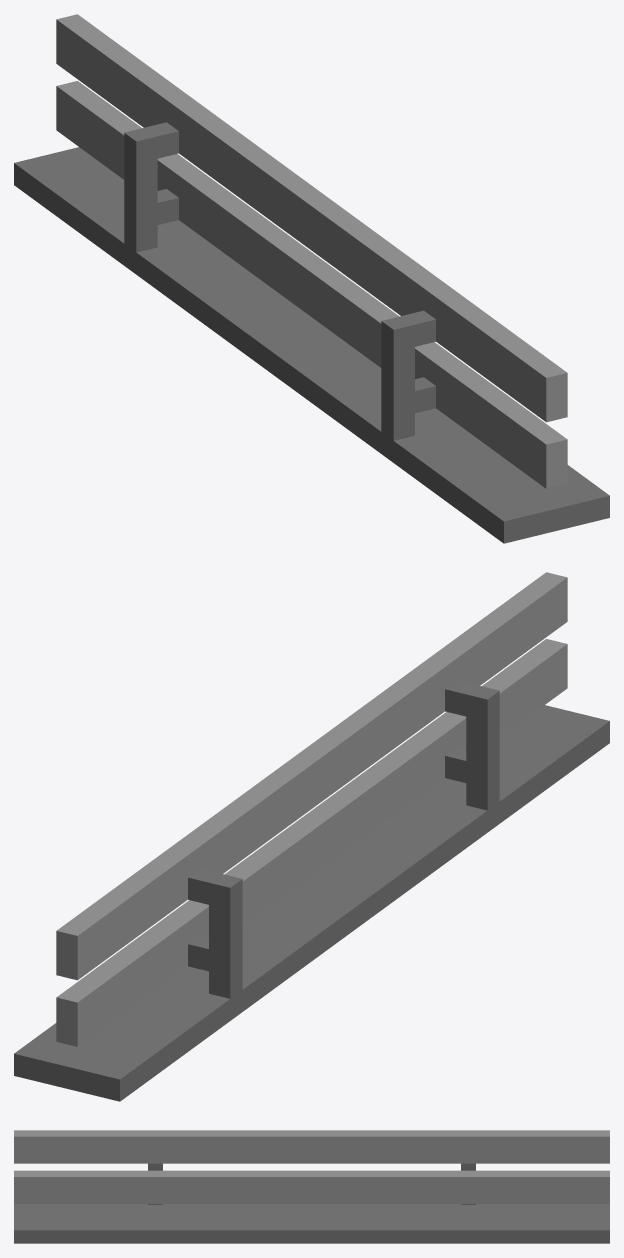
The model's file is All-10-Zabor_4.obj.
3 views of the same model, one above another, from view 1: azimuth 30°, elevation 25°; view 2: azimuth 150°, elevation 25°; view 3: azimuth 270°, elevation 25° (orthographic). The views are drawn at different scales.
Visible parts, largest first — view 1: Zabor_4; view 2: Zabor_4; view 3: Zabor_4.
Boxes of the visible parts, x1=… form: Zabor_4: x1=14, y1=14, x2=609, y2=543; Zabor_4: x1=14, y1=572, x2=609, y2=1101; Zabor_4: x1=14, y1=1130, x2=609, y2=1243.
Bounding box in the file's own units: 0.5 × 0.7 × 4.
Materials: 1 (1 with a texture image).
